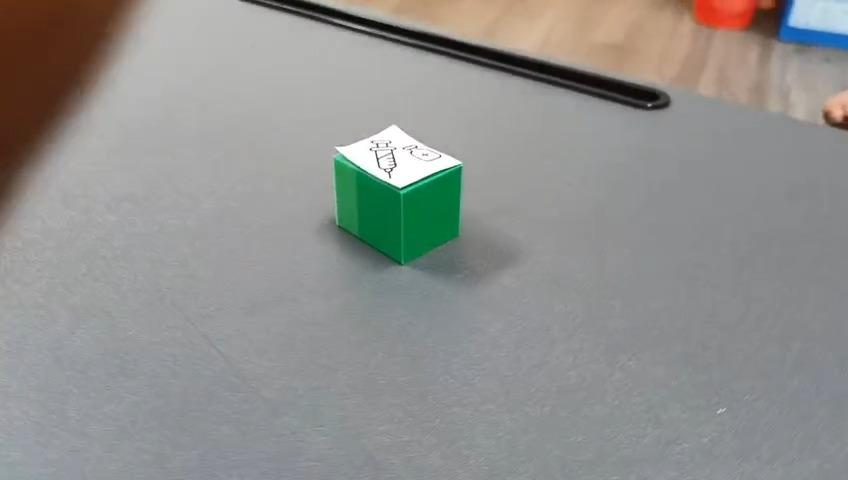antiseptic cream: (331, 122, 463, 266)
